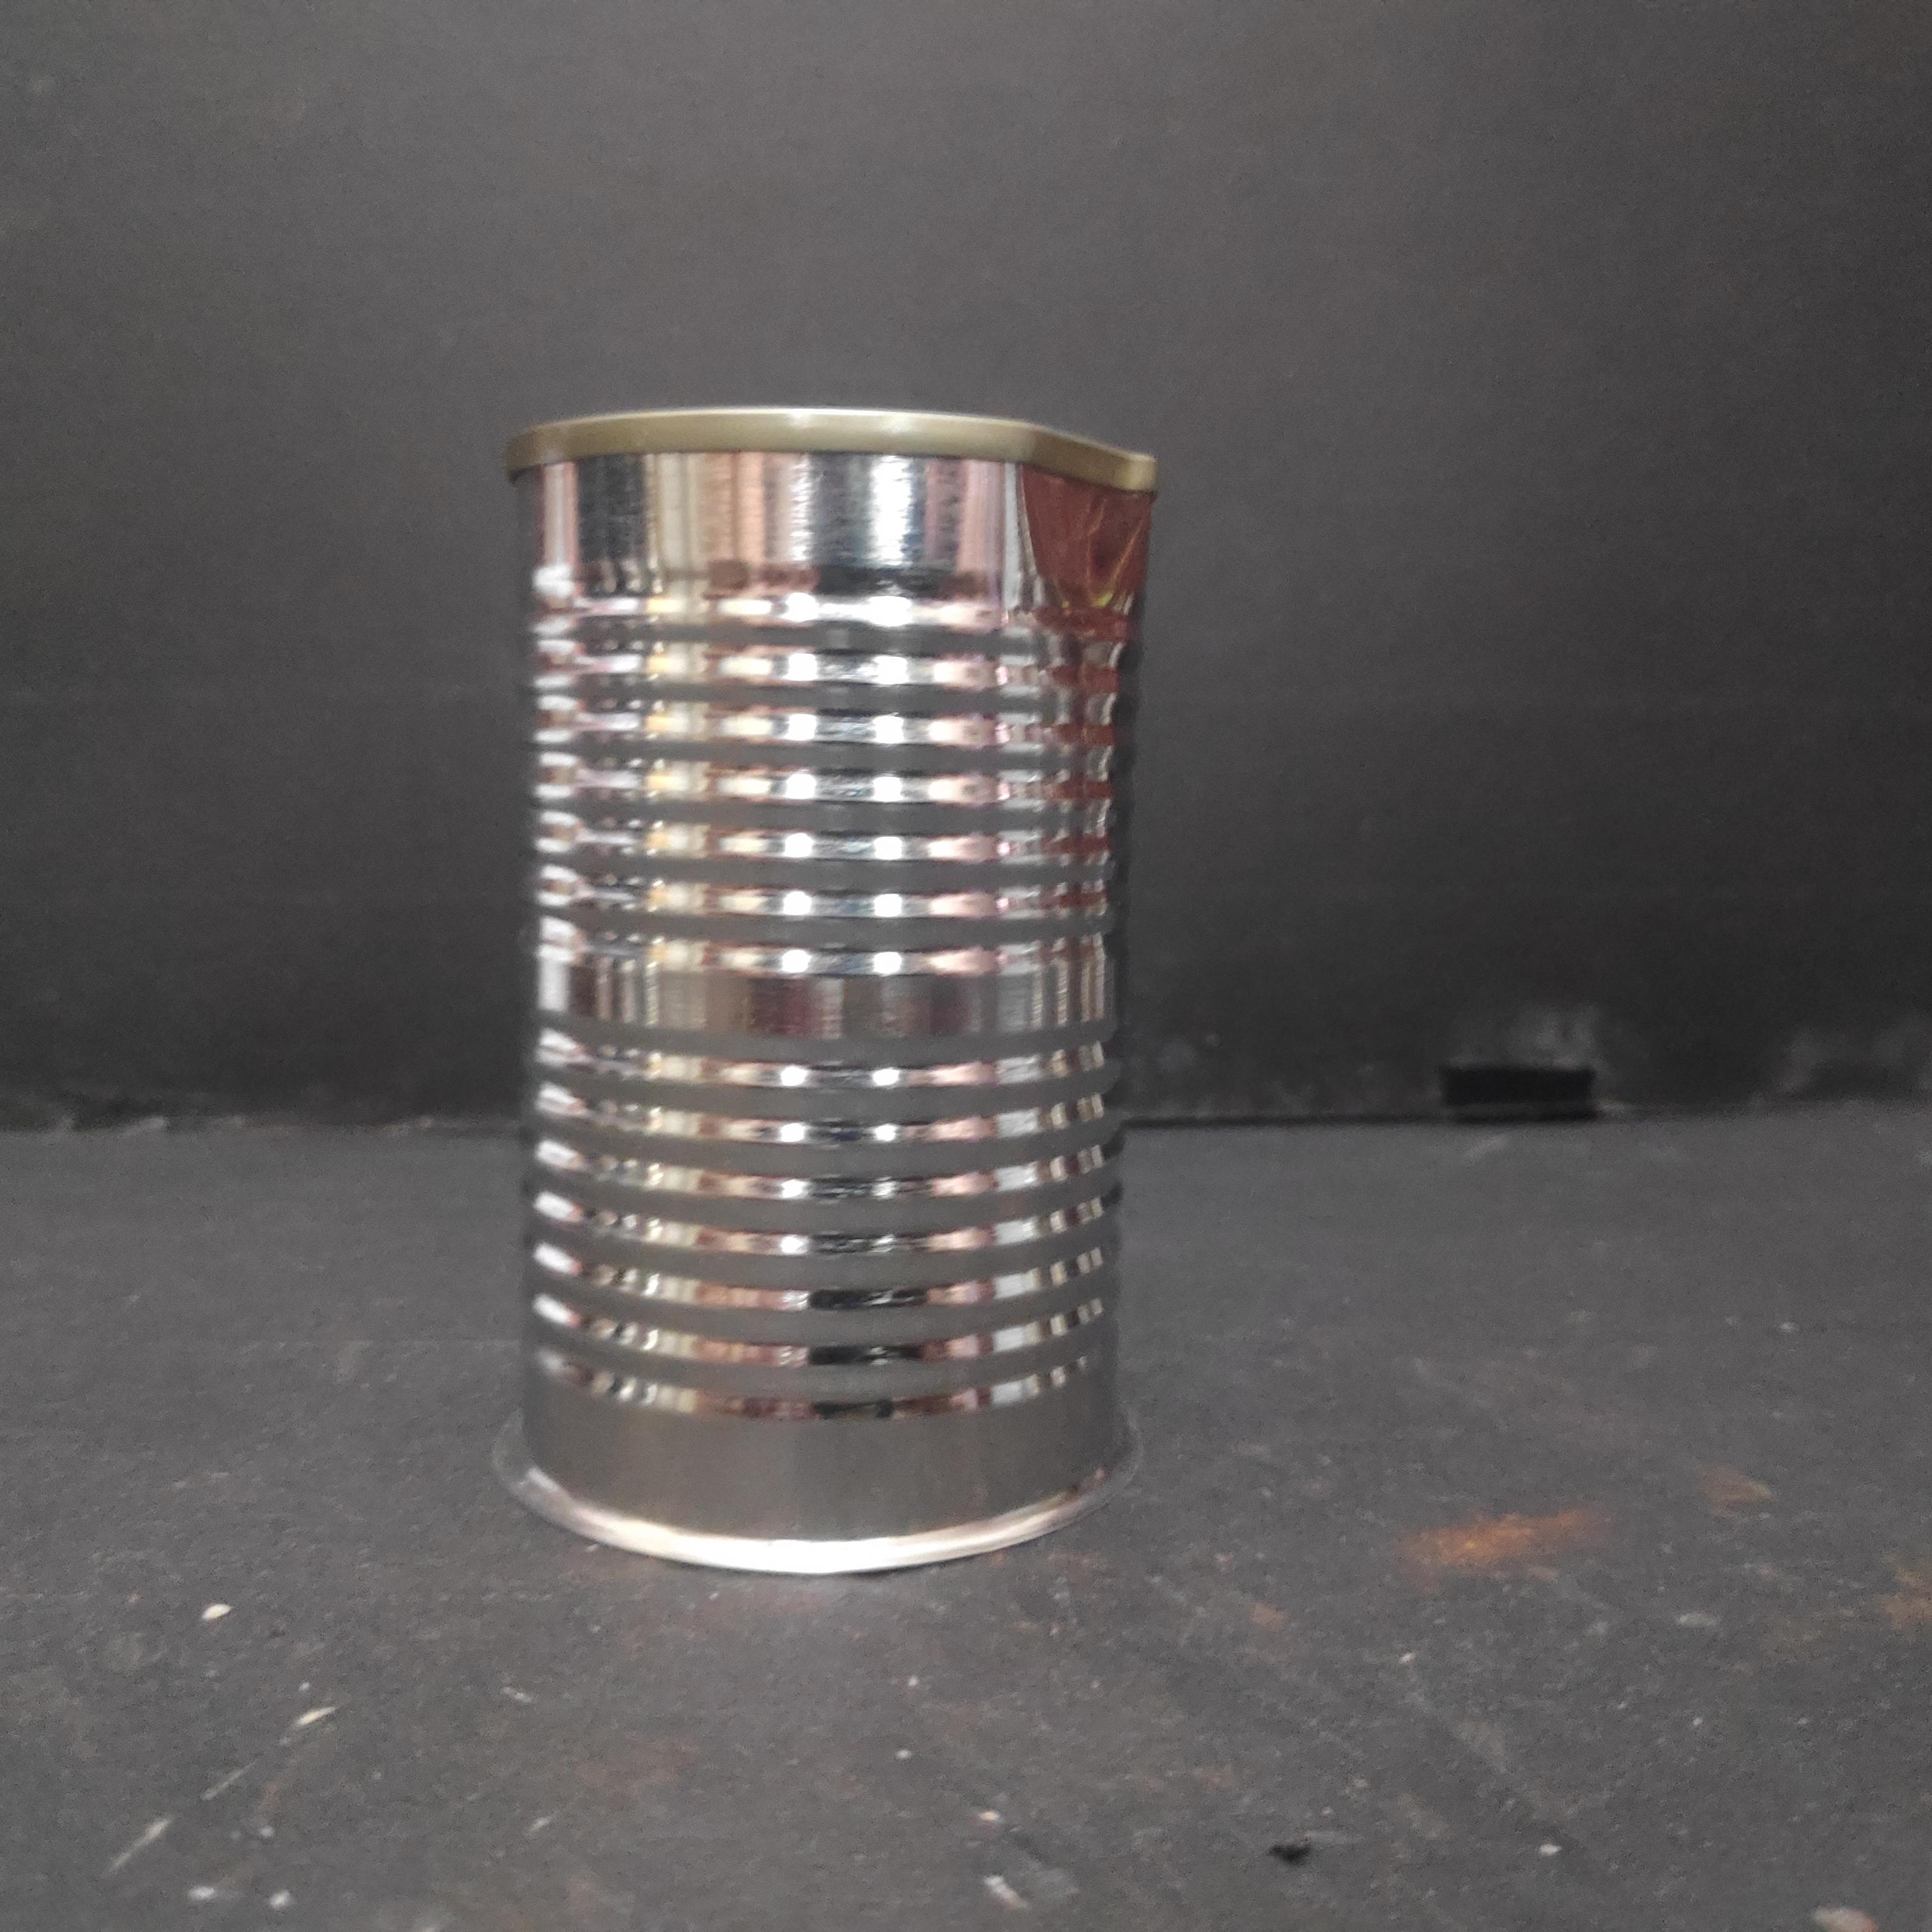Dented: (488, 386, 1178, 1578)
